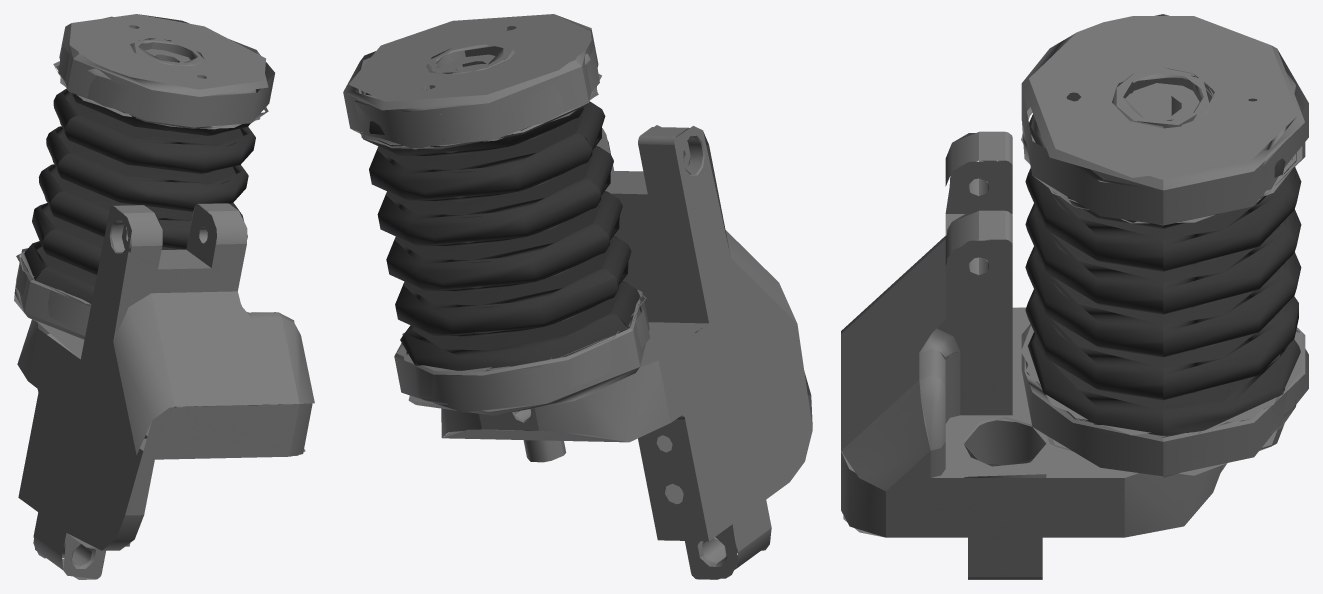
The model's file is handl_finger_thumb1_joint.obj.
3 views of the same model, side by side, from view 1: azimuth 30°, elevation 25°; view 2: azimuth 150°, elevation 25°; view 3: azimuth 270°, elevation 25° (orthographic). The views are drawn at different scales.
Size of the model in its own units: 0.0278 by 0.0445 by 0.0314.
1 material, 1 textured.
